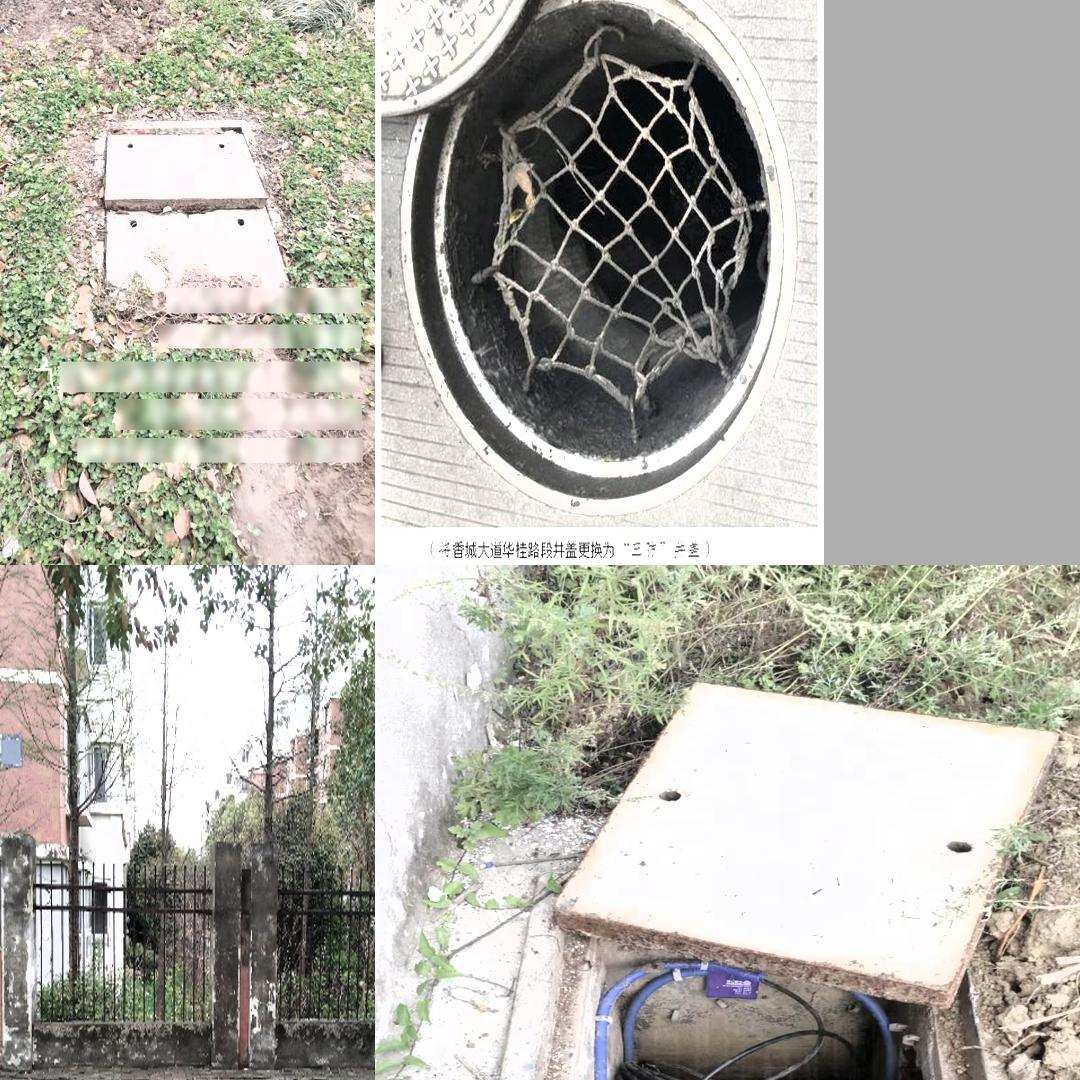uncovered: (470, 680, 1062, 1080), (387, 0, 800, 500), (76, 103, 275, 292)
